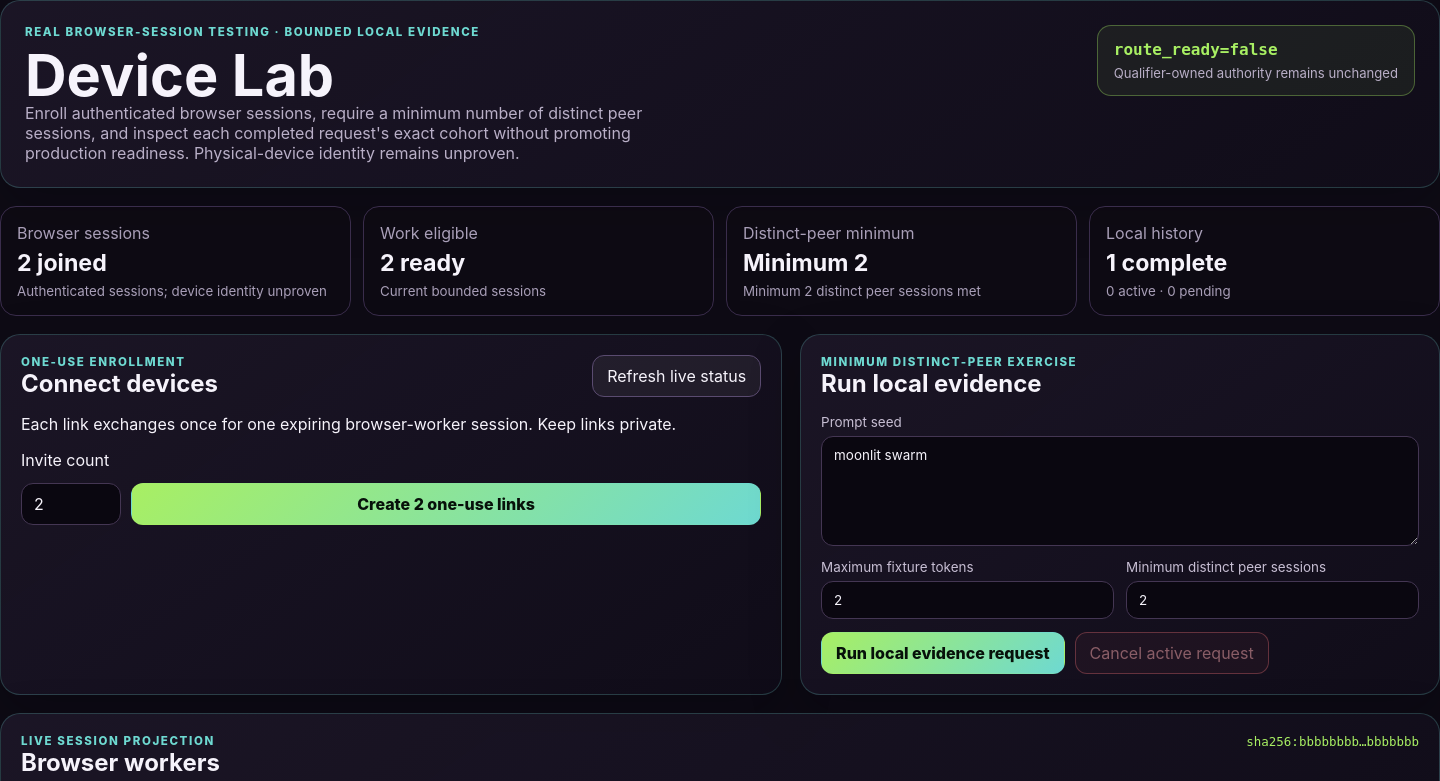
DeviceLabWorkspace › does not let a cancelled request late-resolution overwrite a newer active request
expect the text "2 joined" is shown: met, box [17,249,107,277]
Click the button "Run local evidence request". click: (943, 653)
box: [821,632,1065,674]
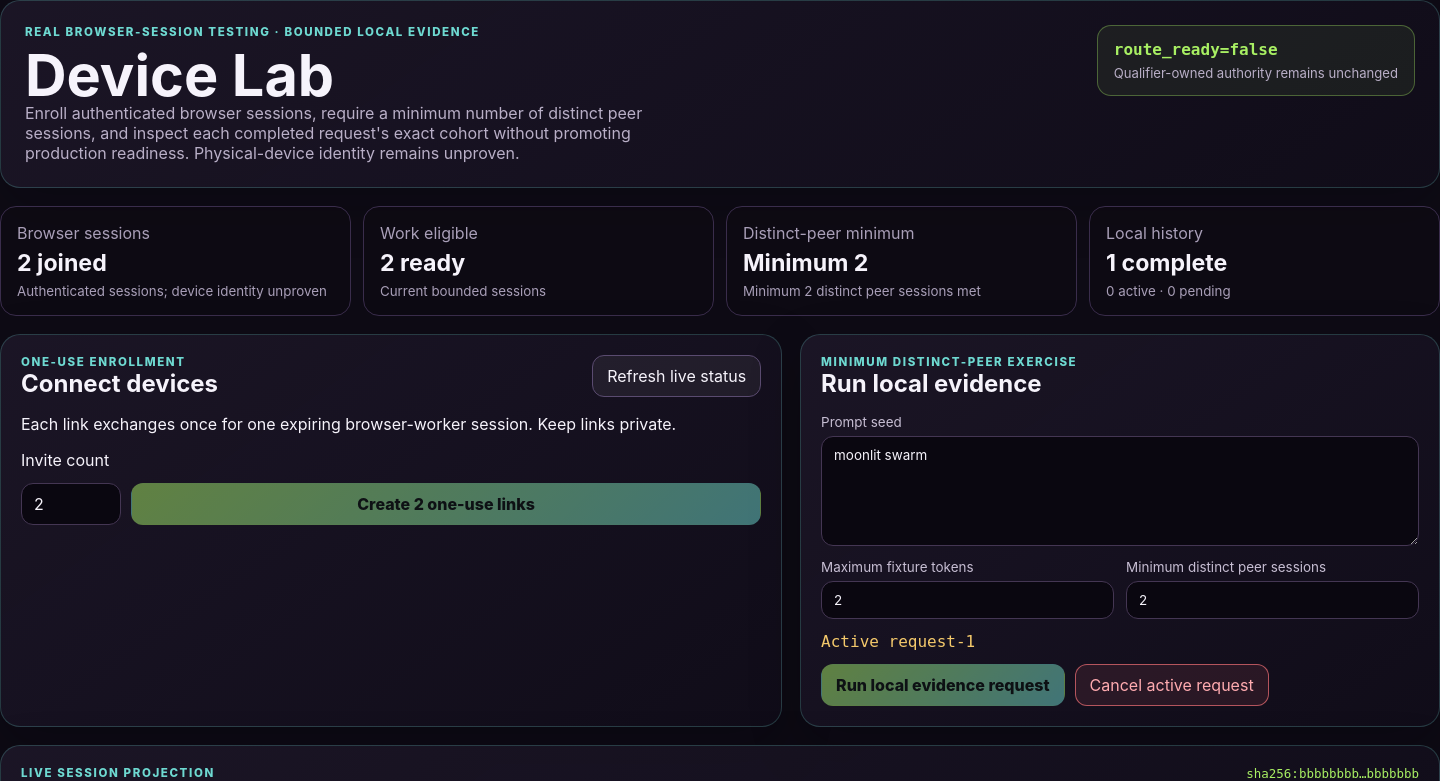
expect the text "Active request-1" is shown: met, box [821,632,975,651]
Click the button "Cancel active request". click: (1172, 685)
box: [1074,664,1269,706]
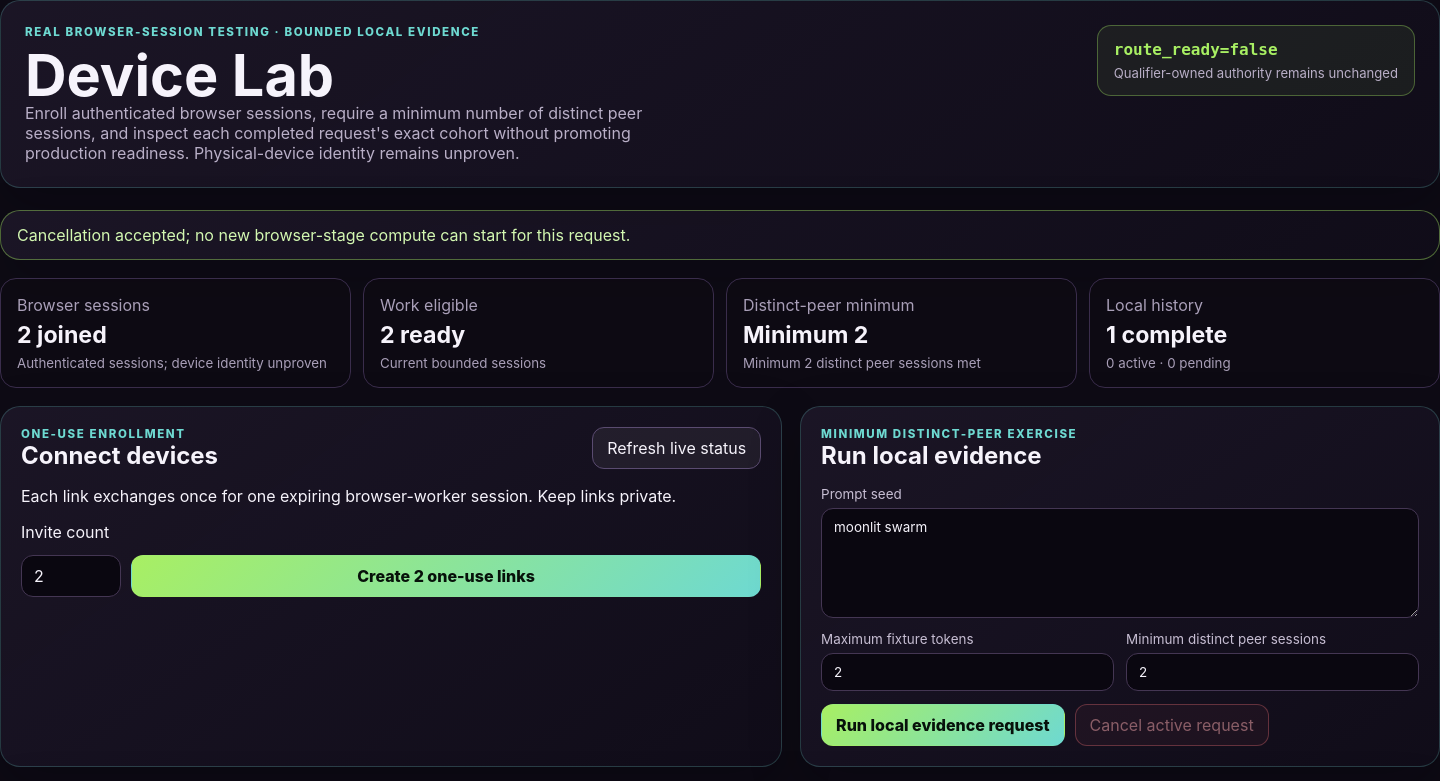
expect the text "Active request-1" is gone: met
Click the button "Run local evidence request". click: (943, 725)
box: [821,704,1065,746]
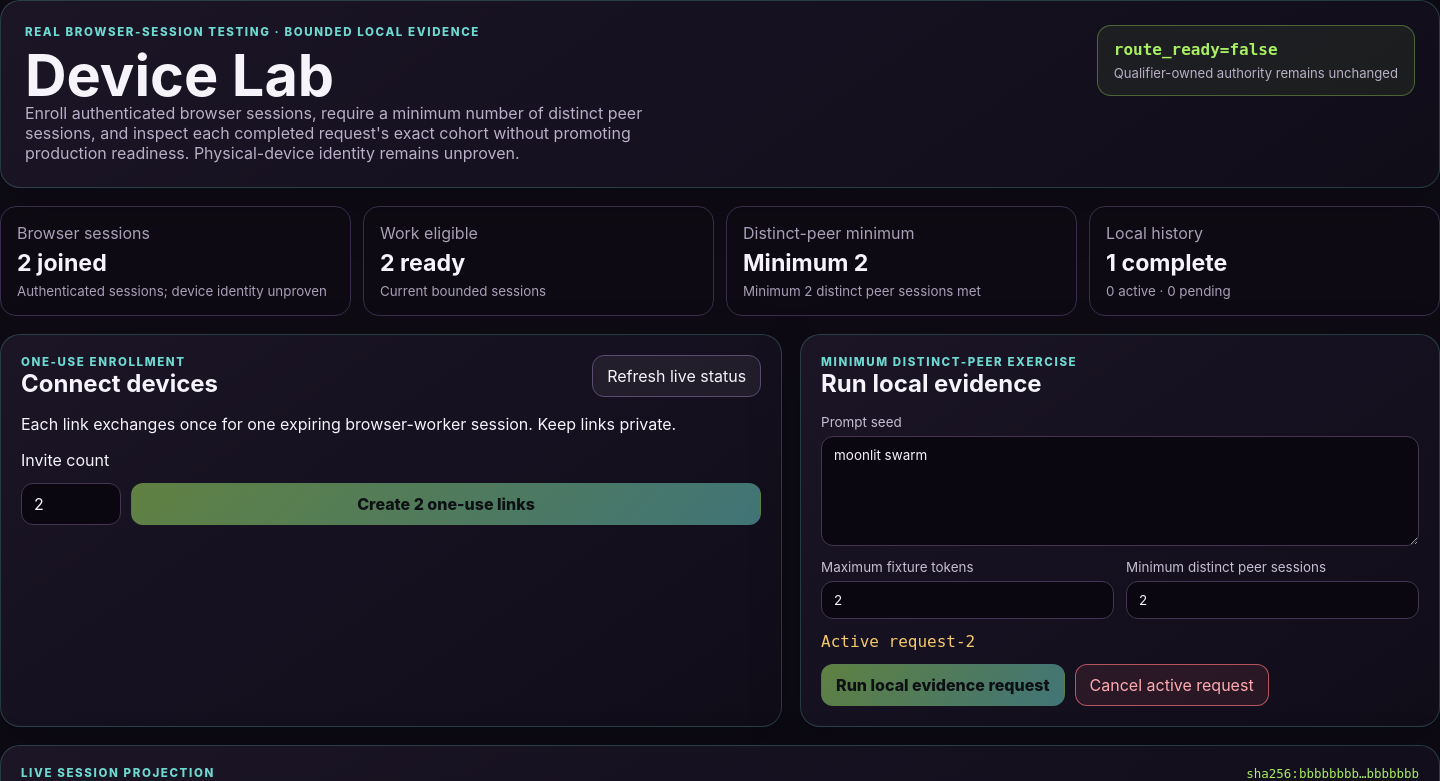
expect the text "Active request-2" is shown: met, box [821,632,975,651]
expect the button "Run local evidence request" is disabled: met, box [821,664,1065,706]
